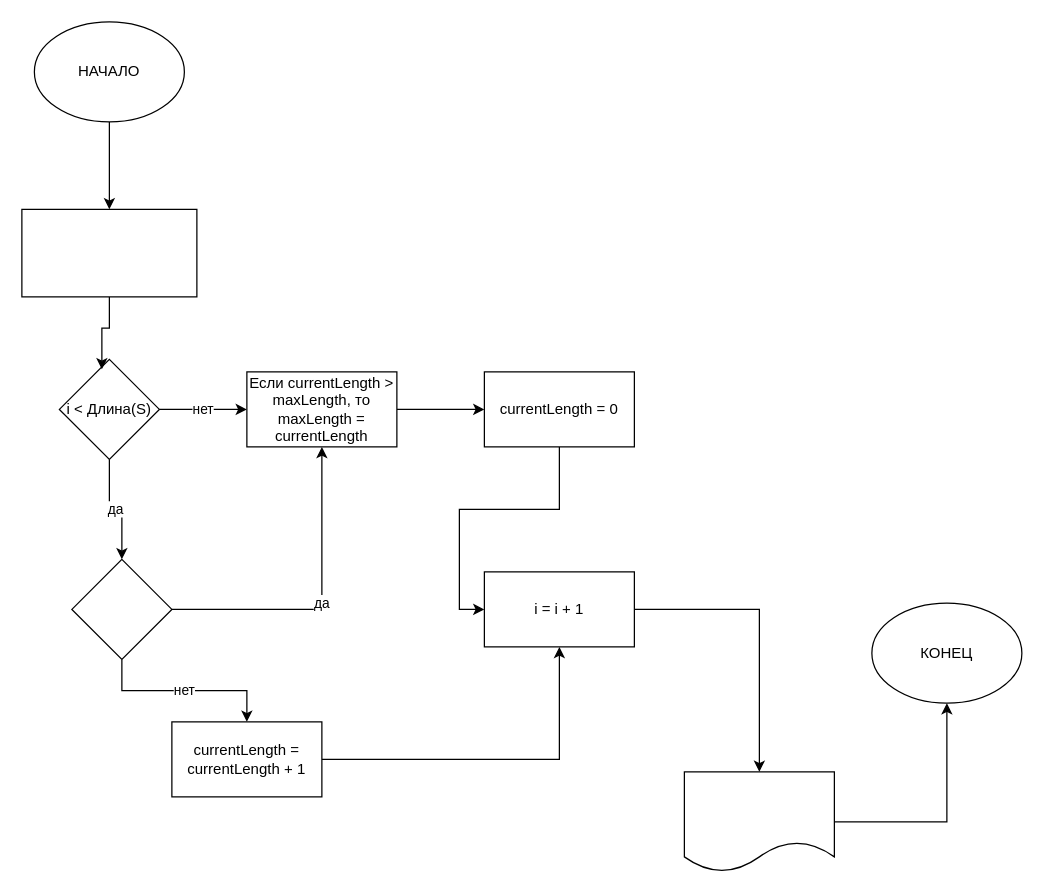
The diagram is 1044 pixels wide and 894 high, and some of its shapes have lost their labels. Here are the shapes that lost their labels. From the top down, the centre of each, then its label:
At (109,252): "maxLength = 0, currentLength = 0, i = 0".
At (121,608): "S[i] - это пробел".
At (758,821): "Вывод maxLength".
